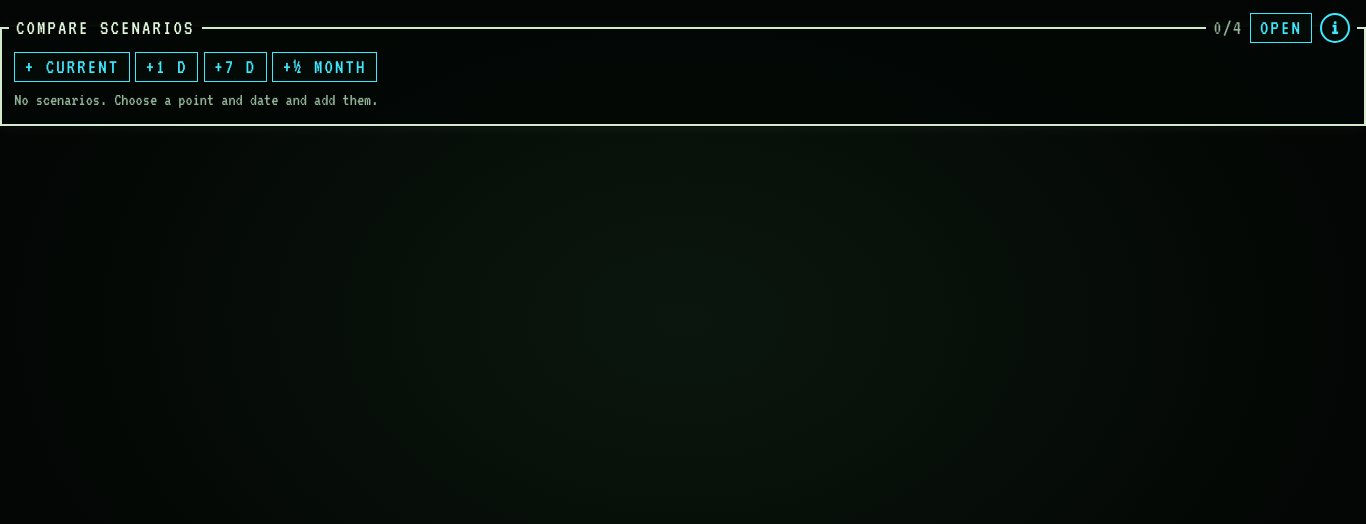
Test case: ComparisonPanel › refuses duplicates and more than four scenarios
Click the button "+ Current".
click(72, 67)  # box [14, 52, 130, 82]
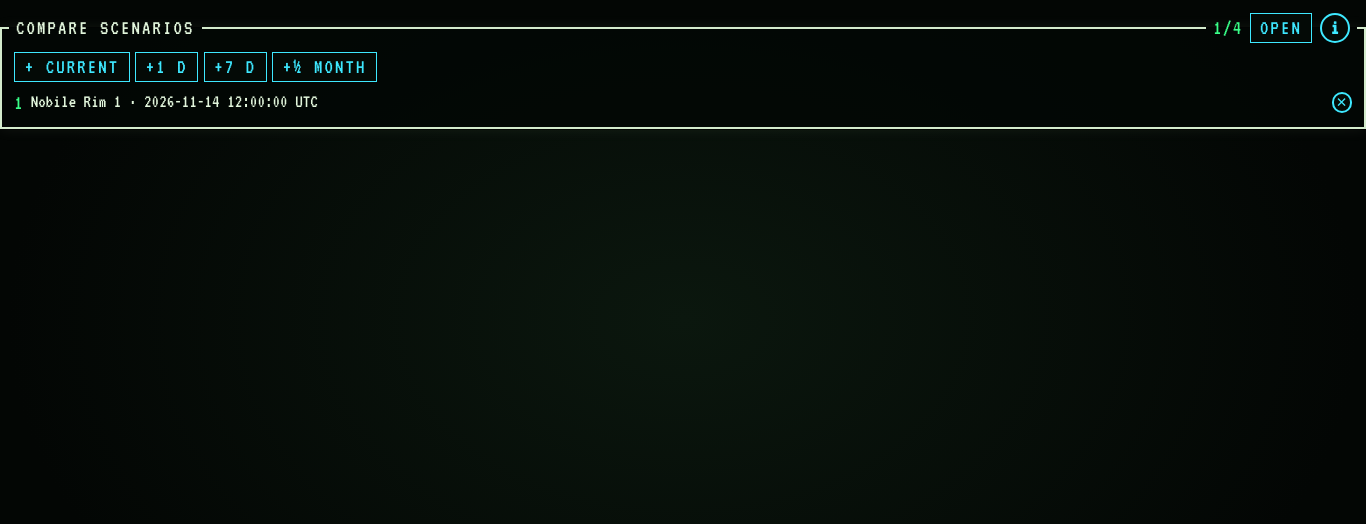
Click the button "+ Current".
click(72, 67)  # box [14, 52, 130, 82]
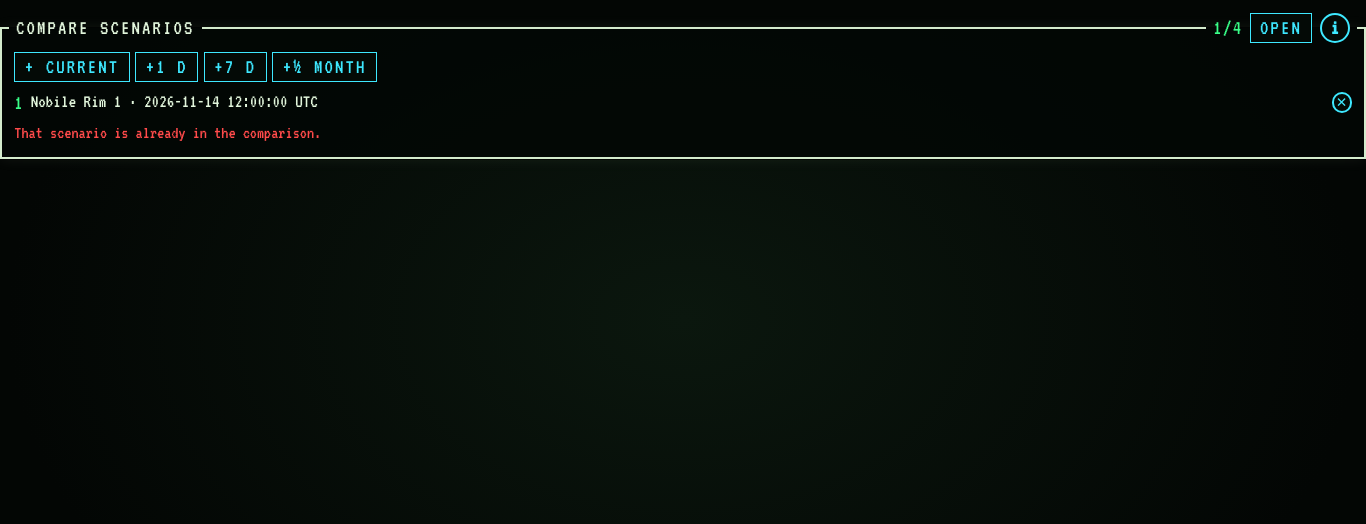
Now the text "That scenario is already in the comparison." is shown, box [14, 124, 321, 142]
Click the button "+1 d".
click(167, 67)  # box [135, 52, 198, 82]
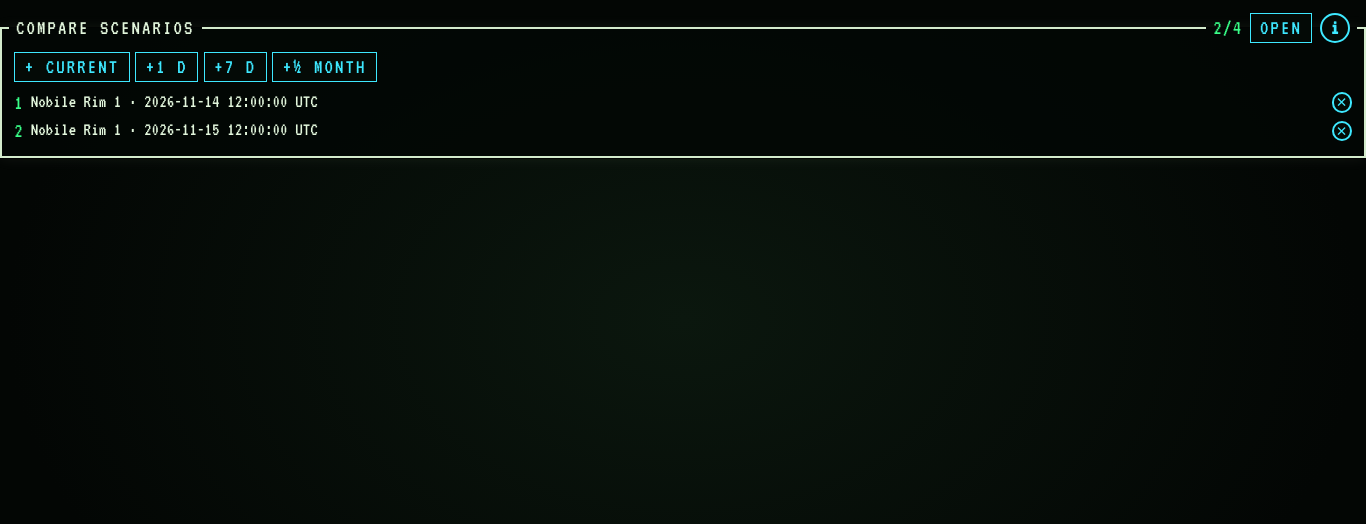
Click the button "+7 d".
click(235, 67)  # box [204, 52, 267, 82]
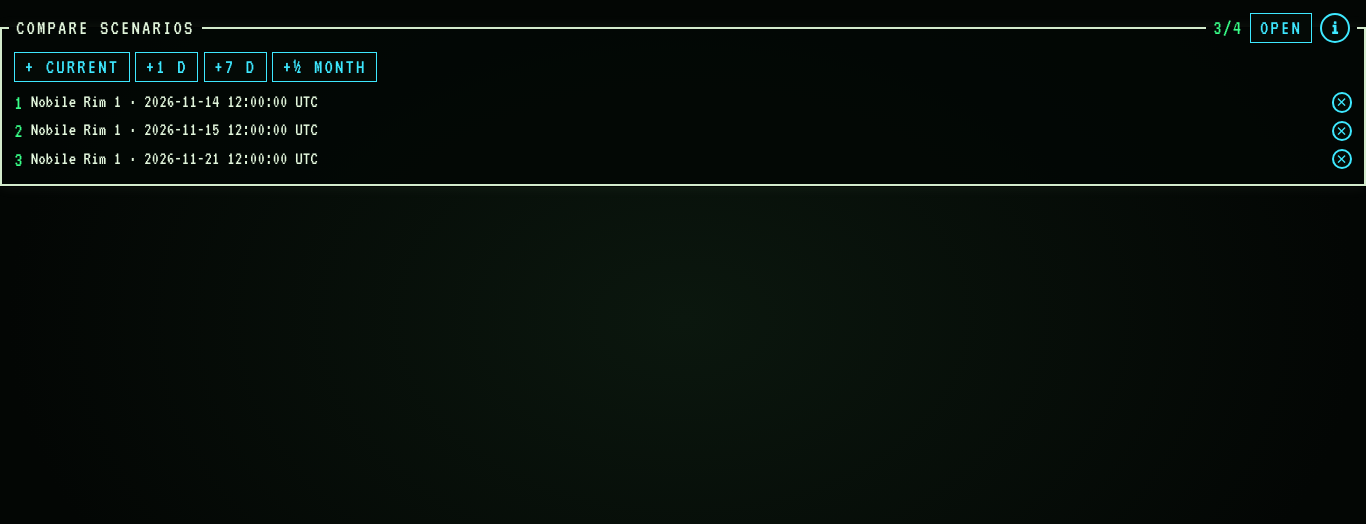
Click the button "+½ month".
click(325, 67)  # box [272, 52, 377, 82]
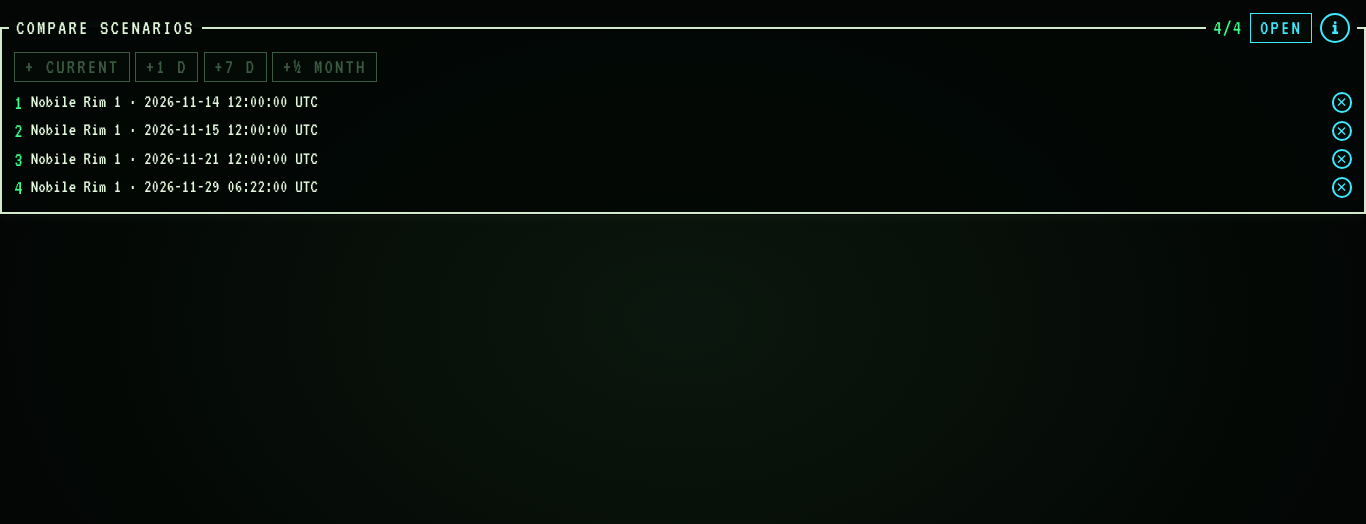
Now the button "+ Current" is disabled, box [14, 52, 130, 82]
